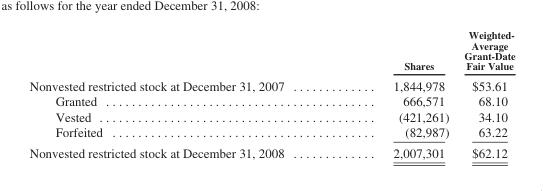table: (28, 28, 514, 159)
table column: (28, 28, 338, 159), (338, 28, 456, 159), (456, 28, 514, 159)
table column header: (28, 28, 514, 74)
table row: (28, 28, 514, 74), (28, 74, 514, 93), (28, 124, 514, 142), (28, 142, 514, 159), (28, 108, 514, 124), (28, 93, 514, 108)
